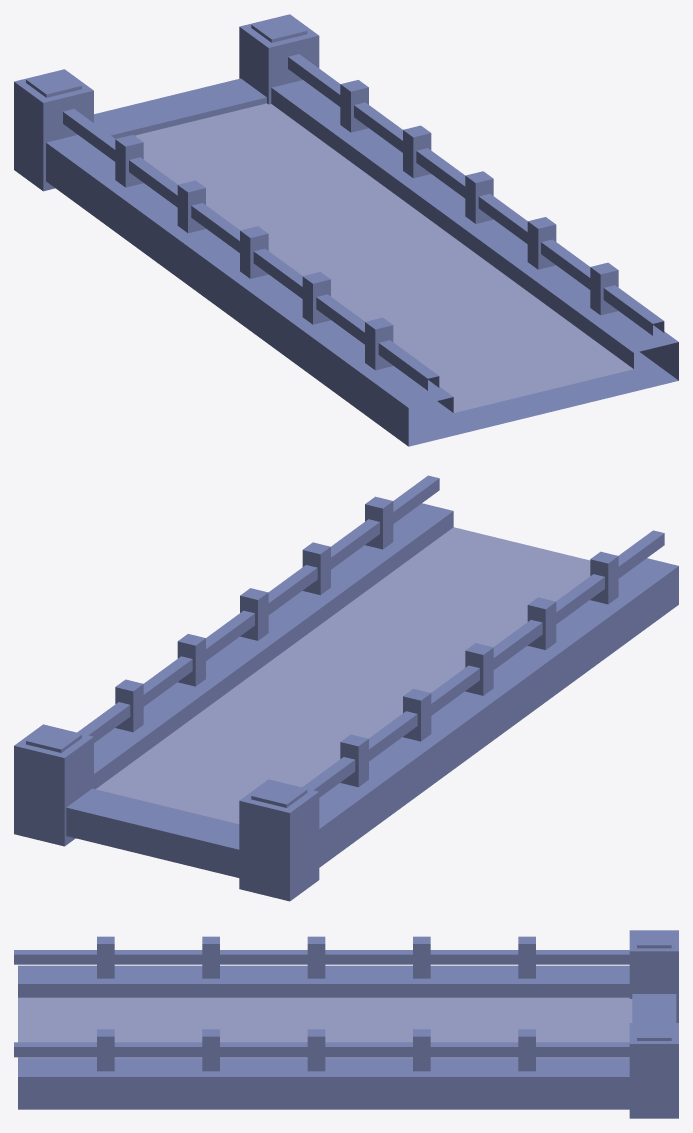
Rendered from bridge_1b_2.fbx.
3 renders of one model, top to bottom at view 1: azimuth 30°, elevation 25°; view 2: azimuth 150°, elevation 25°; view 3: azimuth 270°, elevation 25°, orthographic. The views are drawn at different scales.
Parts seen in each view (by area): view 1: bridge_1b_2; view 2: bridge_1b_2; view 3: bridge_1b_2.
Part boxes in pixels (box(x1,y1,x2,y2)): bridge_1b_2: box(14, 14, 678, 446); bridge_1b_2: box(14, 475, 678, 901); bridge_1b_2: box(14, 930, 678, 1118).
Bounding box in the file's own units: 9.8 × 3.12 × 24.25.
